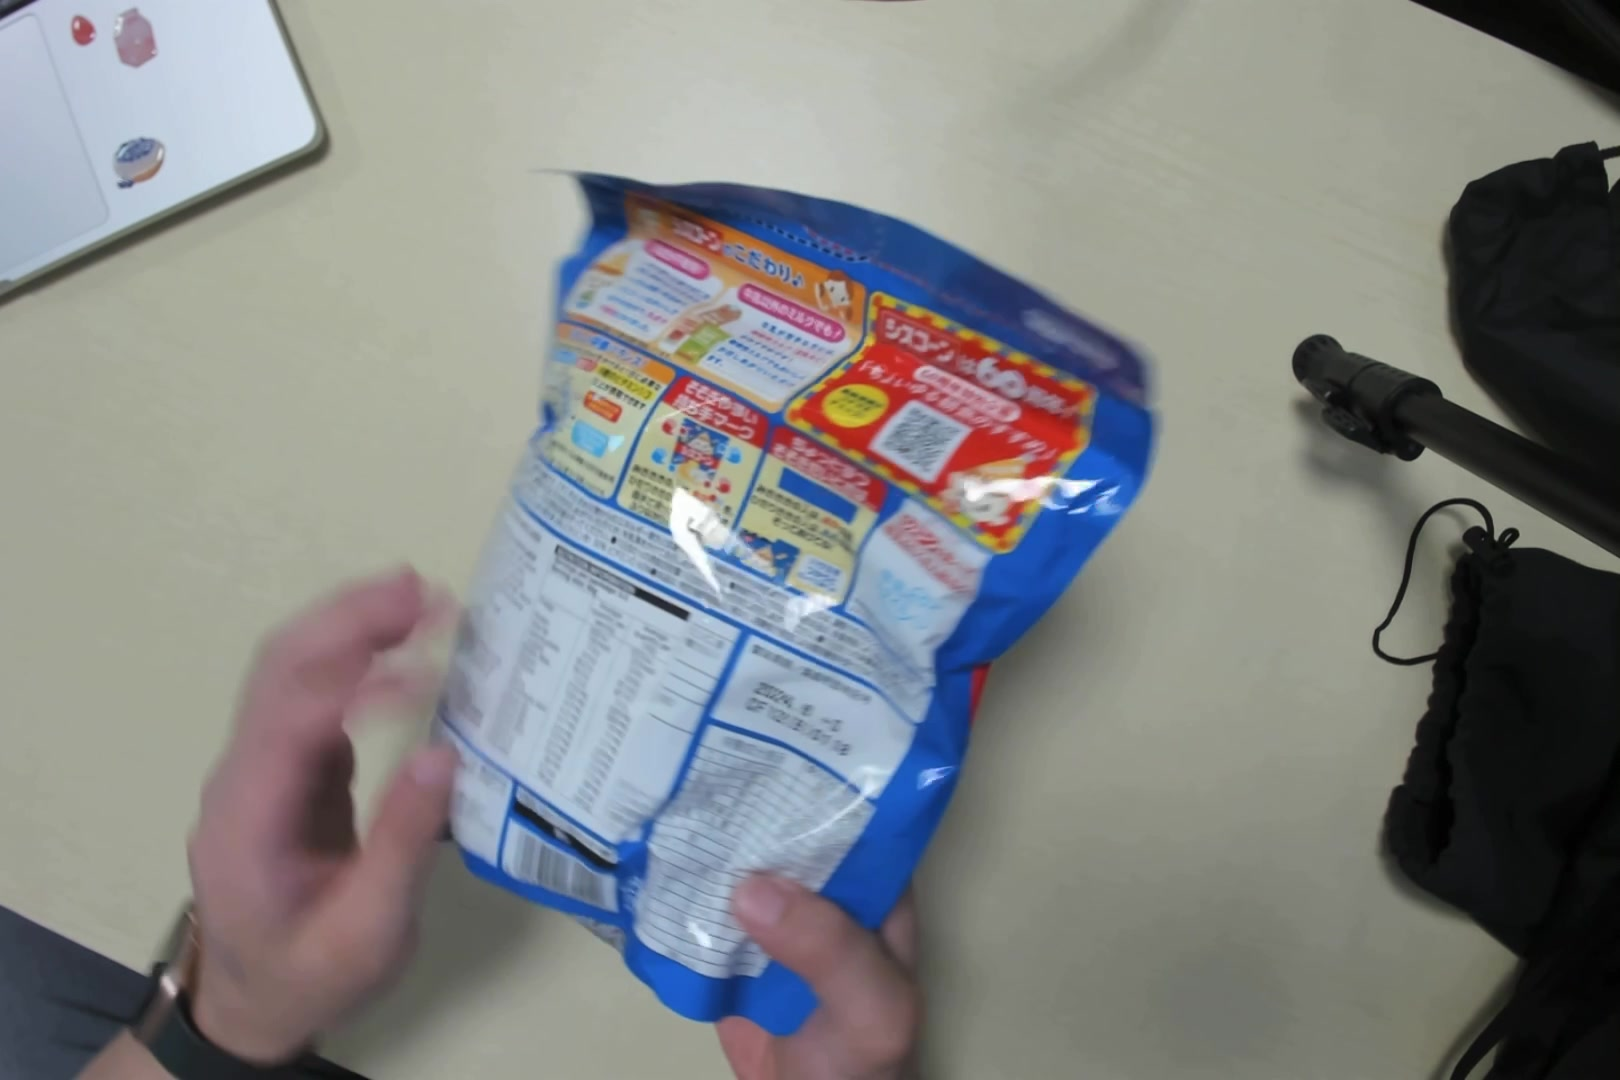BreakfastCereals_200-299g_NonHalal_NonHealthy: (446, 190, 1104, 1016)
